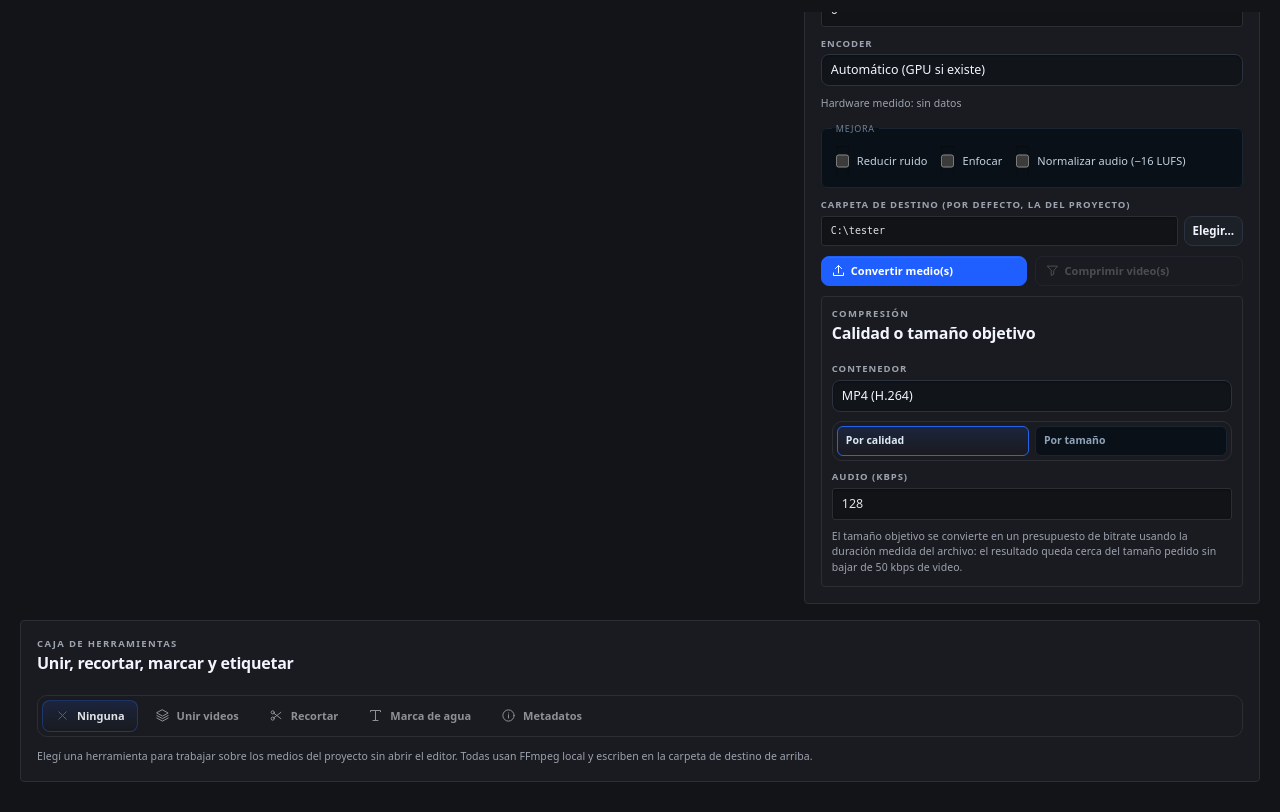
ConvertView · caja de herramientas › la pestaña Unir exige dos videos y lista los del proyecto
The image size is (1280, 812).
(page scrolled)
Click the tab "Unir videos".
click(197, 716)  # box [142,700,252,732]
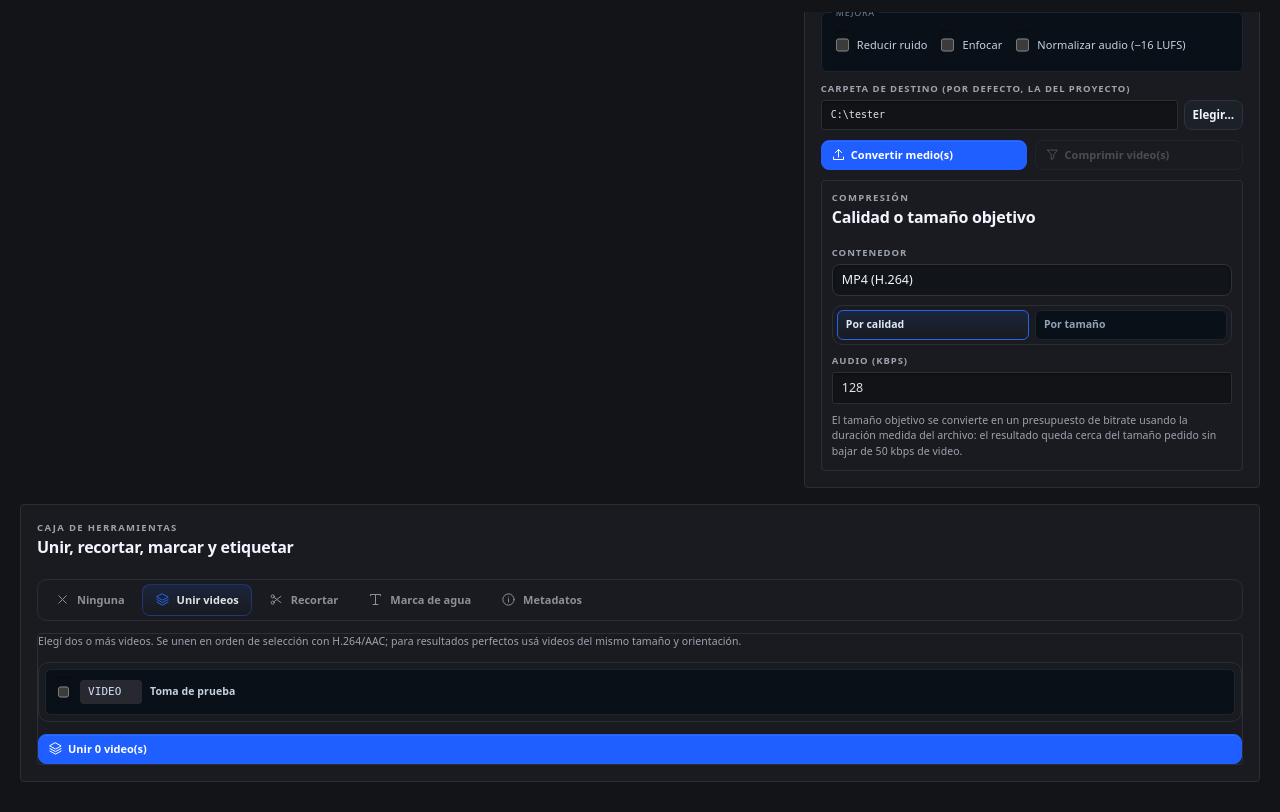
Now the button "Unir 0 video(s)" is disabled, box [38,734,1242,764]
Now the text "Video Toma de prueba" is shown, box [45,669,1235,715]
